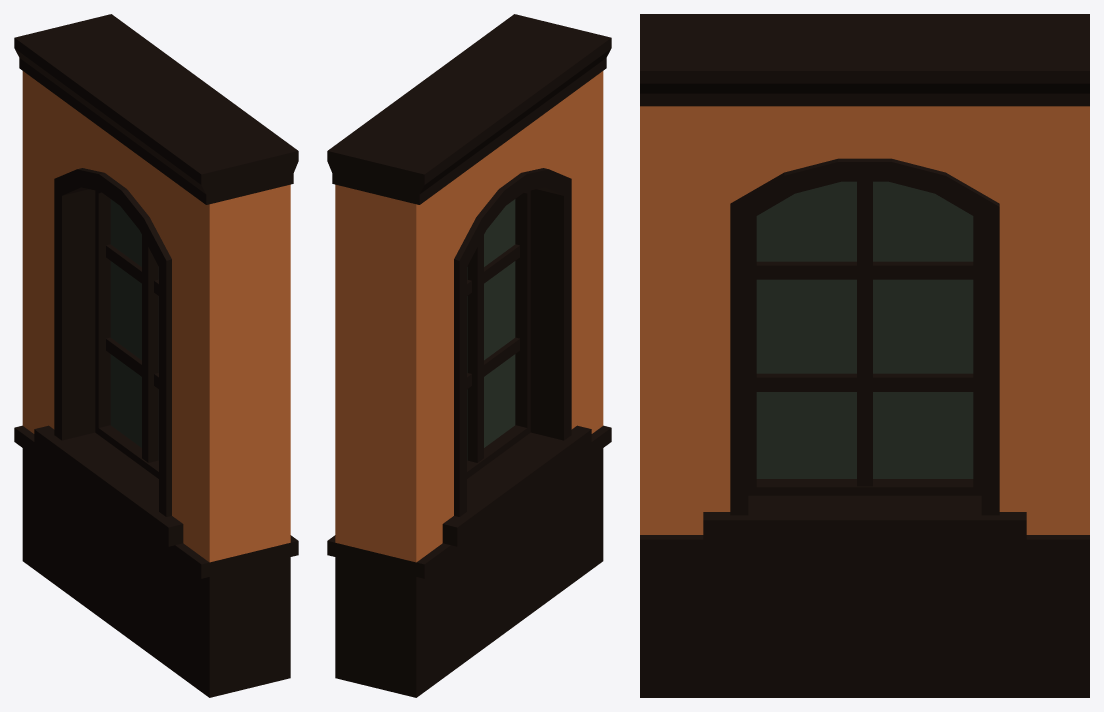
The model's file is WallWindow2_Final.fbx.
3 views of the same model, side by side, from view 1: azimuth 30°, elevation 25°; view 2: azimuth 150°, elevation 25°; view 3: azimuth 270°, elevation 25° (orthographic). The views are drawn at different scales.
Visible parts, largest first — view 1: S_WallWindow2; view 2: S_WallWindow2; view 3: S_WallWindow2.
Boxes of the visible parts, x1,y1,x2,y2 form: S_WallWindow2: (14,14,298,697); S_WallWindow2: (327,14,611,697); S_WallWindow2: (640,14,1089,697).
Size of the model in its own units: 0.6797 by 3.1 by 2.
